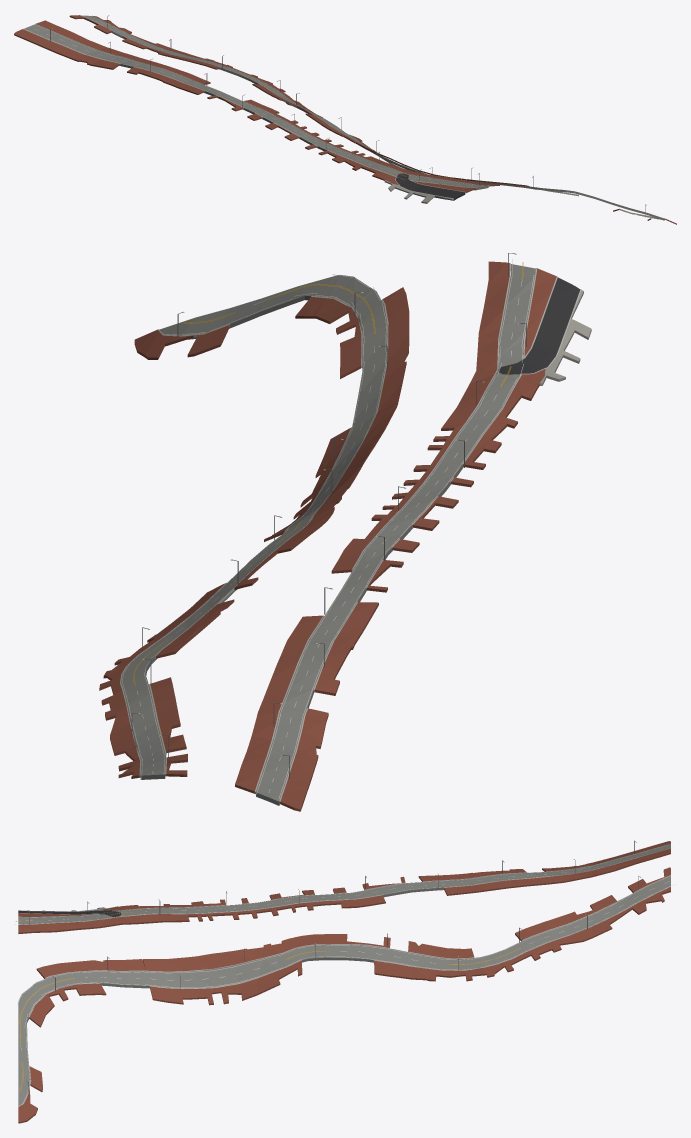
3 views of the same model, one above another, from view 1: azimuth 30°, elevation 25°; view 2: azimuth 150°, elevation 25°; view 3: azimuth 270°, elevation 25° (orthographic). The views are drawn at different scales.
Size of the model in its own units: 216 by 53.2 by 296.
